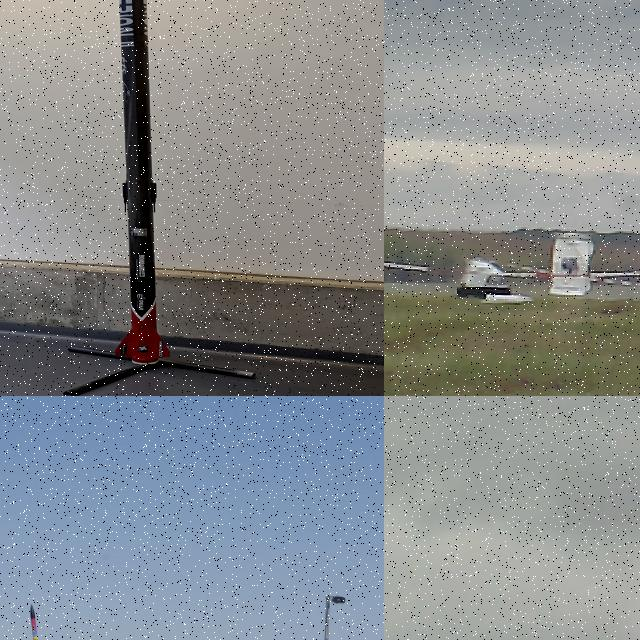Rocket: (115, 0, 170, 365), (29, 603, 48, 640)
